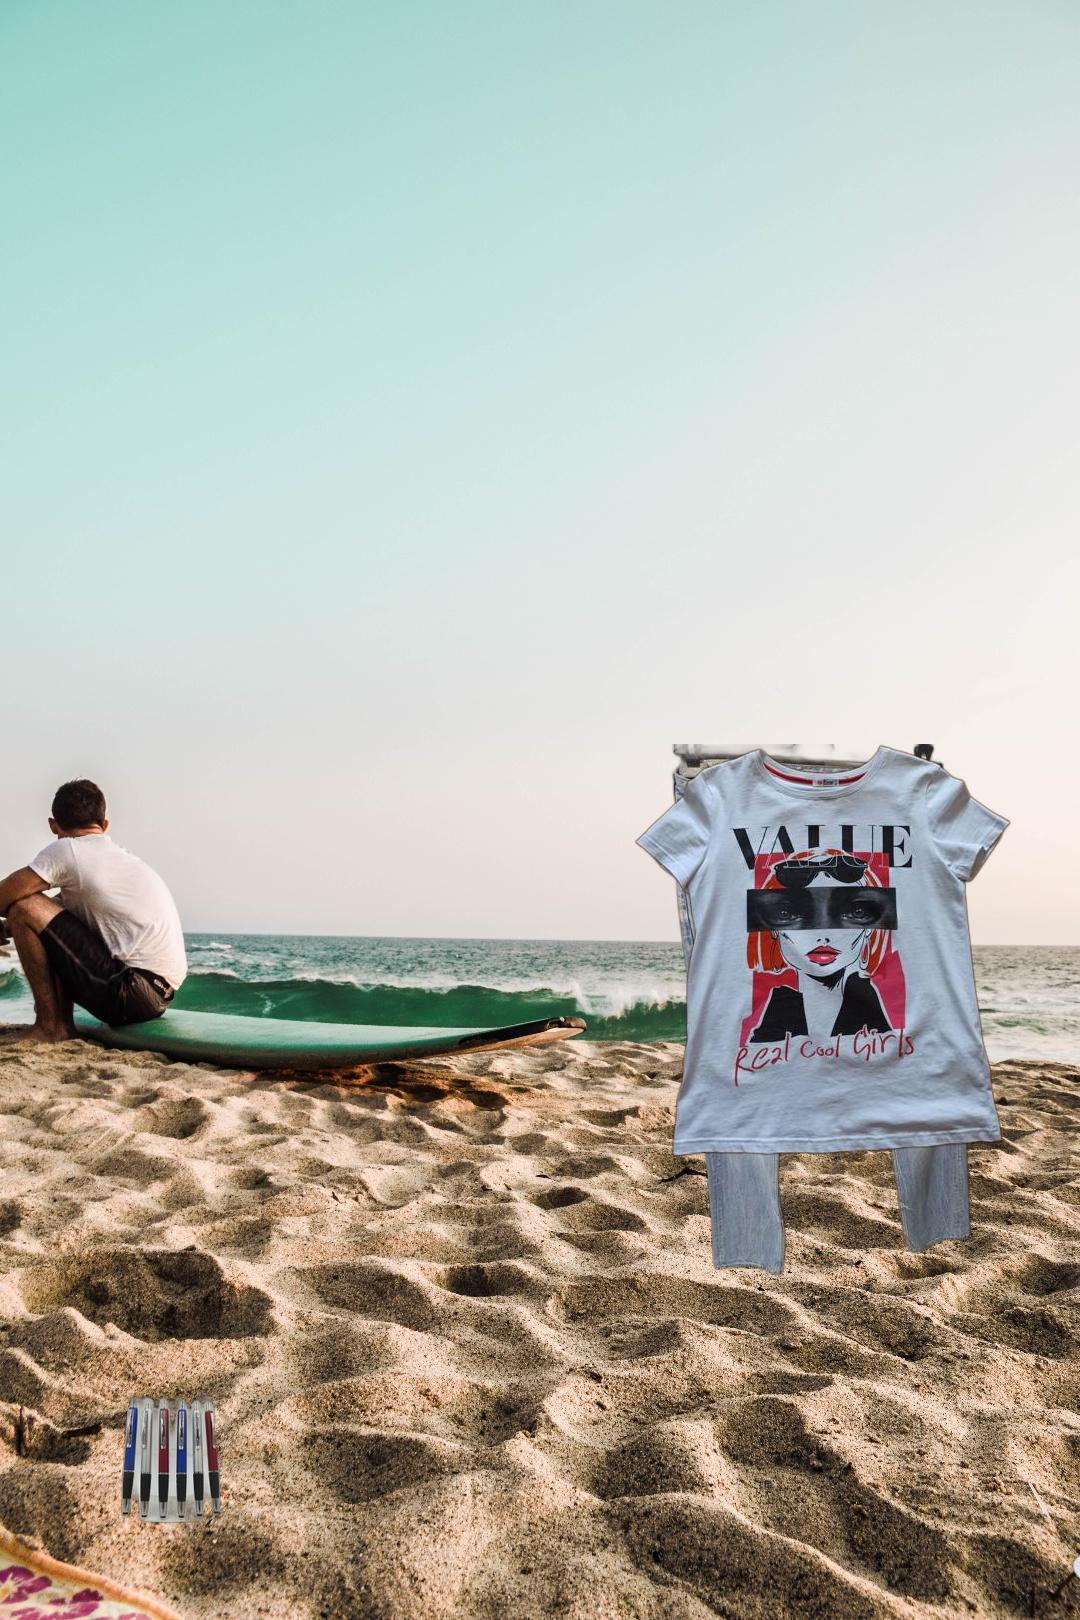clothes: (670, 744, 975, 1278), (634, 741, 1012, 1161)
penholder: (113, 1386, 246, 1527)
plastic-bottles: (1069, 1483, 1080, 1620)
